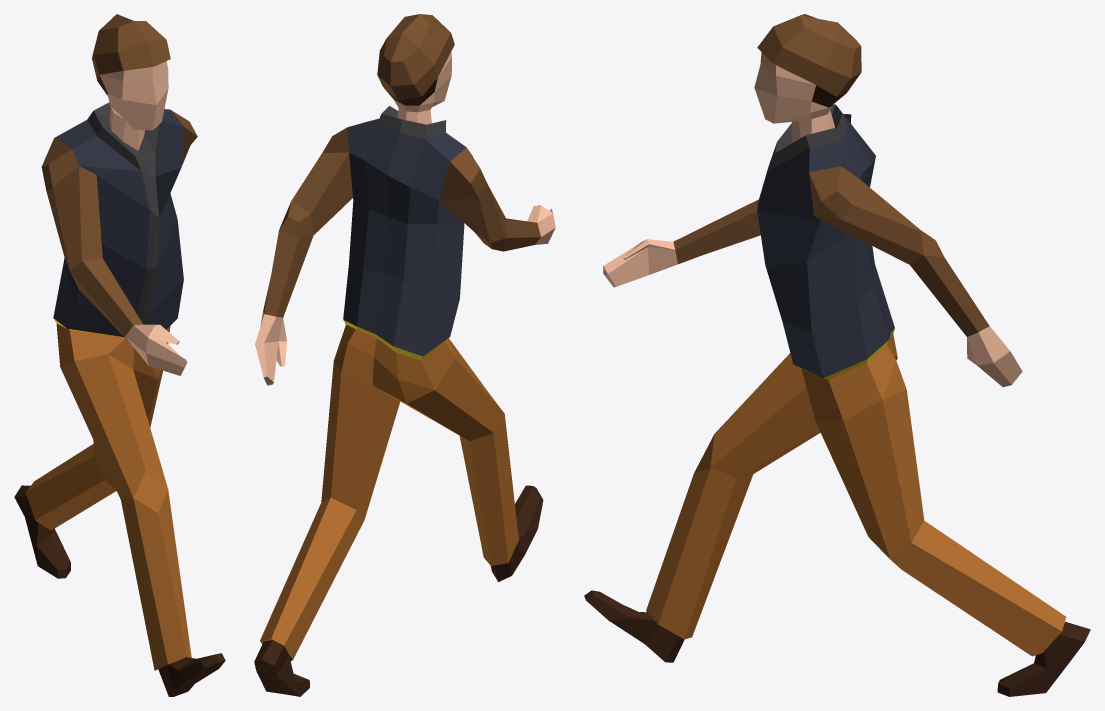
Rendered from AutumnManB.002.glb.
3 renders of one model, left to right at view 1: azimuth 30°, elevation 25°; view 2: azimuth 150°, elevation 25°; view 3: azimuth 270°, elevation 25°, orthographic. The views are drawn at different scales.
Parts seen in each view (by area): view 1: AutumnManB.002; view 2: AutumnManB.002; view 3: AutumnManB.002.
Part boxes in pixels (x1,y1,x2,y2): AutumnManB.002: [14, 14, 225, 696]; AutumnManB.002: [254, 14, 555, 696]; AutumnManB.002: [584, 14, 1090, 696].
Bounding box in the file's own units: 0.4339 × 1.65 × 1.14.
Materials: 1 (1 with a texture image).
